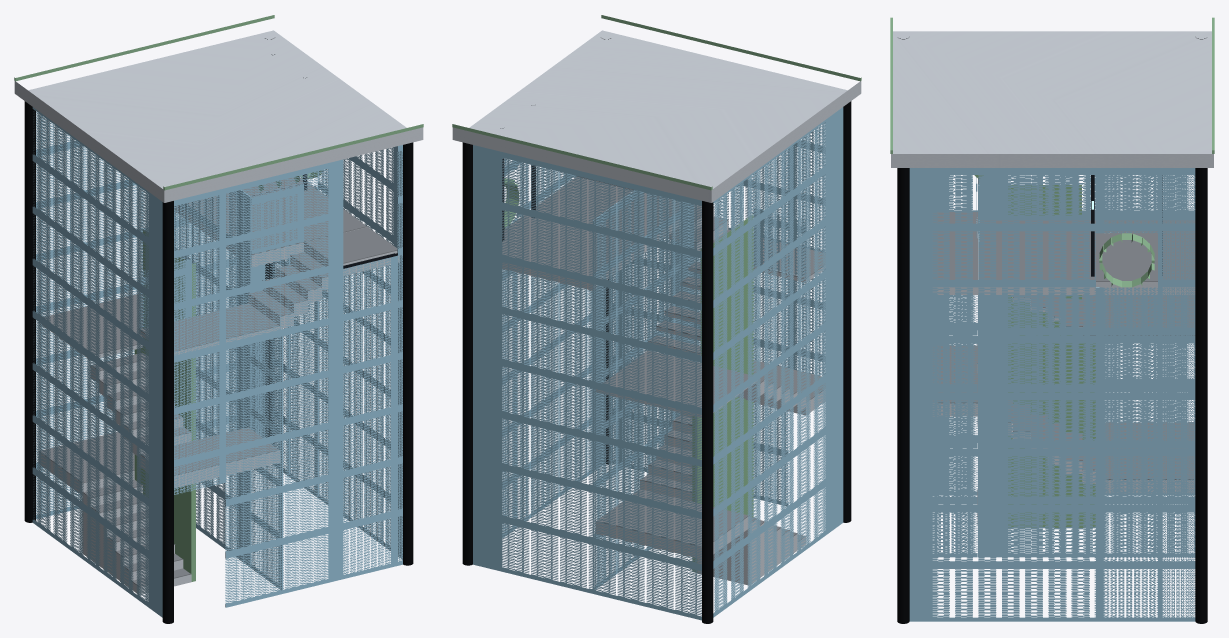
File: tt_slide_tower_t1.glb
3 views of the same model, side by side, from view 1: azimuth 30°, elevation 25°; view 2: azimuth 150°, elevation 25°; view 3: azimuth 270°, elevation 25° (orthographic). The views are drawn at different scales.
Visible parts, largest first — view 1: Enclosure_Scissor, Roof, Columns, Treads_Slate, Stair_Cast, Deck_Finish, Spine_Wall, Fascia_Band, Deck; view 2: Enclosure_Scissor, Roof, Columns, Treads_Slate, Spine_Wall, Stair_Cast, Deck_Finish, Fascia_Band, Deck; view 3: Enclosure_Scissor, Roof, Columns, Deck_Finish, Treads_Slate, Spine_Wall, Deck, Stair_Cast, Slide_Tube, Fascia_Band.
Boxes of the visible parts, left/top/right/bottom form: Enclosure_Scissor: left=32, top=107, right=402, bottom=617; Roof: left=14, top=30, right=423, bottom=202; Columns: left=24, top=38, right=413, bottom=623; Treads_Slate: left=39, top=253, right=328, bottom=586; Stair_Cast: left=38, top=256, right=328, bottom=594; Deck_Finish: left=188, top=177, right=397, bottom=263; Spine_Wall: left=134, top=229, right=195, bottom=581; Fascia_Band: left=14, top=15, right=423, bottom=190; Deck: left=174, top=205, right=399, bottom=275; Enclosure_Scissor: left=473, top=107, right=843, bottom=620; Roof: left=452, top=30, right=861, bottom=202; Columns: left=462, top=38, right=851, bottom=623; Treads_Slate: left=597, top=196, right=825, bottom=546; Spine_Wall: left=692, top=214, right=753, bottom=572; Stair_Cast: left=596, top=199, right=825, bottom=585; Deck_Finish: left=502, top=176, right=679, bottom=275; Fascia_Band: left=452, top=15, right=861, bottom=190; Deck: left=502, top=178, right=680, bottom=290; Enclosure_Scissor: left=909, top=168, right=1195, bottom=621; Roof: left=891, top=31, right=1213, bottom=167; Columns: left=897, top=38, right=1207, bottom=623; Deck_Finish: left=933, top=220, right=1195, bottom=281; Treads_Slate: left=933, top=212, right=1194, bottom=516; Spine_Wall: left=1008, top=185, right=1095, bottom=528; Deck: left=933, top=234, right=1195, bottom=294; Stair_Cast: left=933, top=297, right=1194, bottom=525; Slide_Tube: left=1099, top=233, right=1154, bottom=287; Fascia_Band: left=890, top=17, right=1214, bottom=153.
Size of what is drawn, in the model's own units: 5.2 by 8.46 by 5.22.
Materials: 8 (5 with a texture image).
